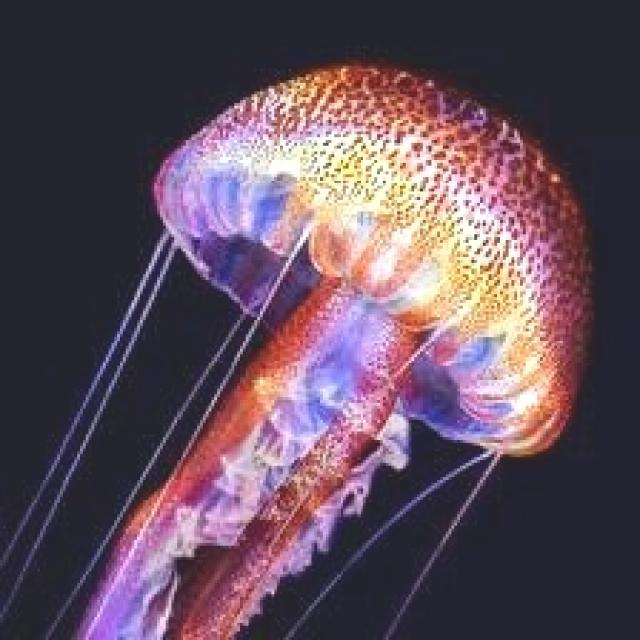Box-jellyfish: (0, 57, 594, 637)
